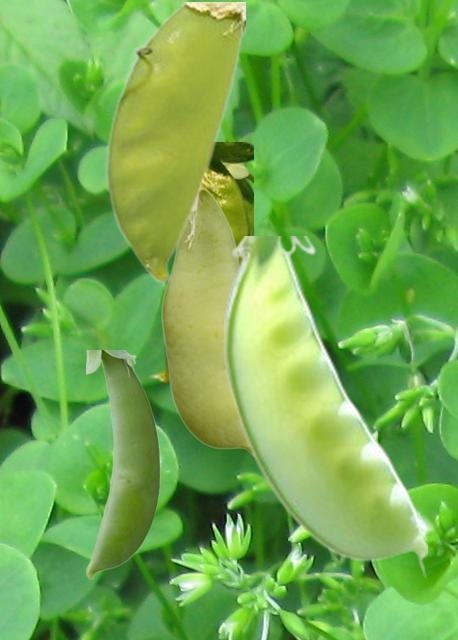pea: (222, 236, 426, 579), (105, 2, 244, 281), (148, 142, 252, 383), (159, 188, 251, 455), (86, 350, 159, 578)
